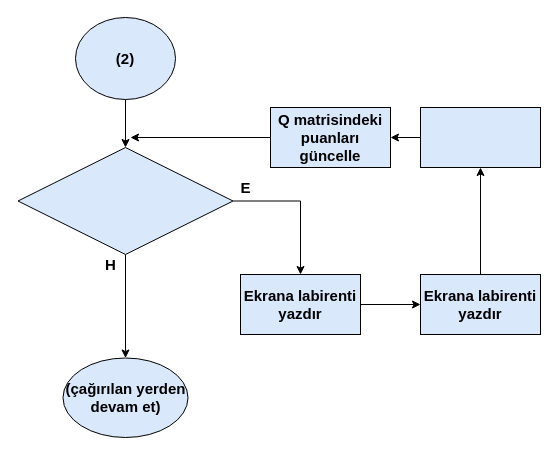
Image size: 558x455. Some labels were removed from this diagram. Each missing label, with the centre of its shape:
Bir sonraki duruma hareket et: the point at 480,137
iterasyon<=toplam iterasyon: the point at 125,200
